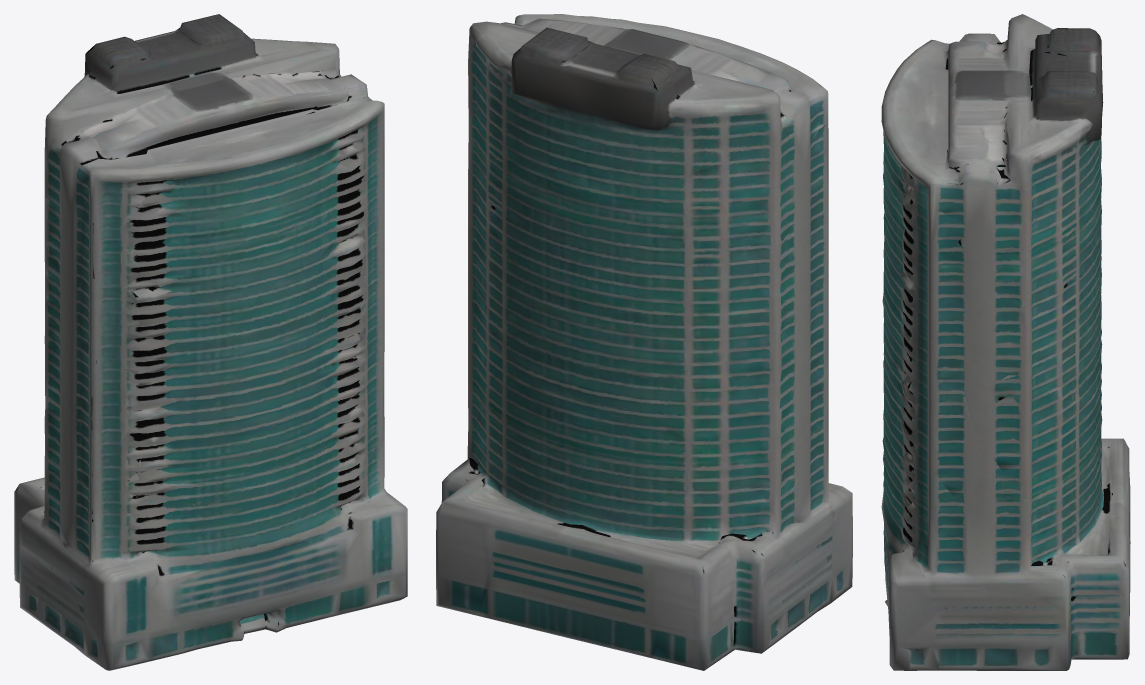
Rendered from sky55_1255_s_michigan.glb.
The picture shows the model from 3 angles, left to right: view 1: azimuth 30°, elevation 25°; view 2: azimuth 150°, elevation 25°; view 3: azimuth 270°, elevation 25°; orthographic projection. The views are drawn at different scales.
Visible parts, largest first — view 1: sky55_1255_s_michigan; view 2: sky55_1255_s_michigan; view 3: sky55_1255_s_michigan.
Boxes of the visible parts, x1,y1,x2,y2 form: sky55_1255_s_michigan: [14, 14, 407, 670]; sky55_1255_s_michigan: [436, 14, 852, 670]; sky55_1255_s_michigan: [881, 14, 1130, 670].
Size of the model in its own units: 77 by 129 by 54.
Materials: 1 (1 with a texture image).
